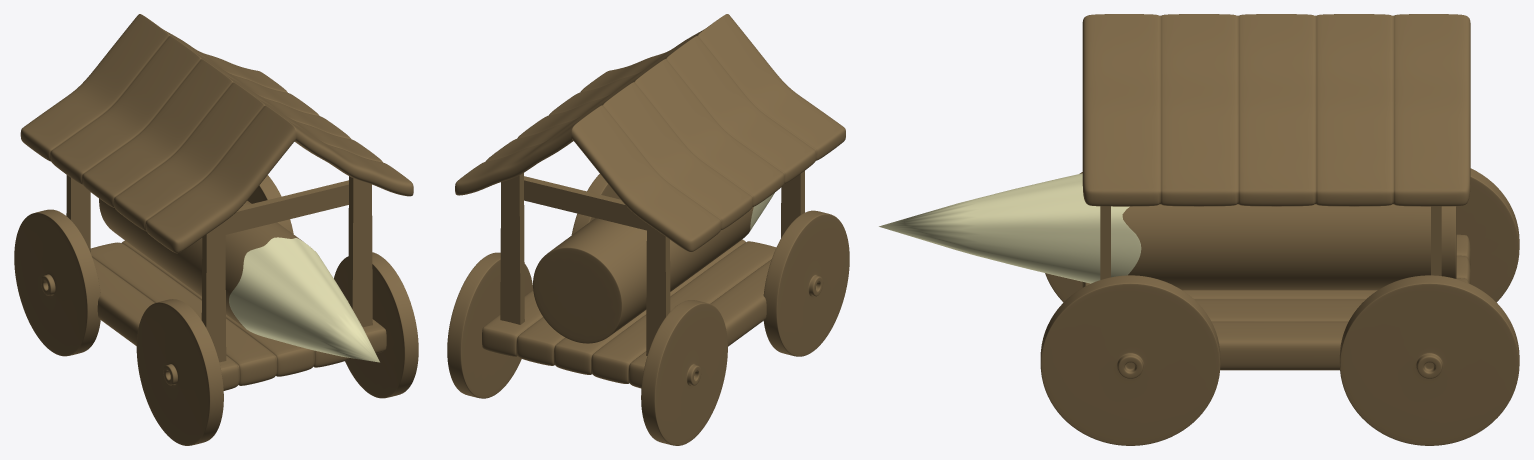
The model's file is BatteringRam.fbx.
3 views of the same model, side by side, from view 1: azimuth 30°, elevation 25°; view 2: azimuth 150°, elevation 25°; view 3: azimuth 270°, elevation 25° (orthographic). The views are drawn at different scales.
Visible parts, largest first — view 1: pCube2, pCylinder1, pCube1, pCylinder3, pCylinder4, pCylinder2, pCube4, pCube7, pCube3, pCube5, pCylinder5; view 2: pCube2, pCylinder1, pCube1, pCylinder4, pCylinder3, pCylinder5, pCube6, pCube8, pCube5, pCube3, pCylinder2; view 3: pCube2, pCylinder1, pCylinder2, pCylinder5, pCube1, pCylinder4, pCube4, pCube6.
Part boxes in pixels (x1,y1,x2,y2): pCube2: (20,14,413,253); pCylinder1: (99,198,379,362); pCube1: (91,240,386,390); pCylinder3: (136,299,223,445); pCylinder4: (14,209,100,356); pCylinder2: (334,252,418,398); pCube4: (348,176,372,327); pCube7: (225,180,348,234); pCube3: (201,221,226,362); pCube5: (66,175,90,252); pCylinder5: (247,175,293,233); pCube2: (455,14,845,251); pCylinder1: (533,193,774,343); pCube1: (482,239,776,388); pCylinder4: (641,300,727,445); pCylinder3: (763,210,849,356); pCylinder5: (447,252,533,398); pCube6: (500,173,524,324); pCube8: (524,176,646,230); pCube5: (646,223,670,355); pCube3: (781,171,804,237); pCylinder2: (571,174,620,234); pCube2: (1082,14,1470,206); pCylinder1: (879,173,1456,290); pCylinder2: (1040,275,1220,445); pCylinder5: (1339,275,1519,445); pCube1: (1082,234,1470,370); pCylinder4: (1456,168,1519,302); pCube4: (1100,206,1110,279); pCube6: (1431,206,1441,275).
Bounding box in the file's own units: 4.83 × 5.78 × 9.08.
